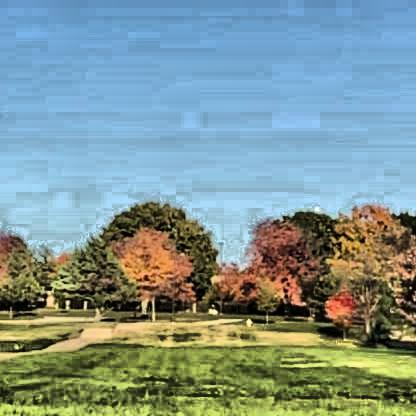golfball: (310, 204, 318, 209)
